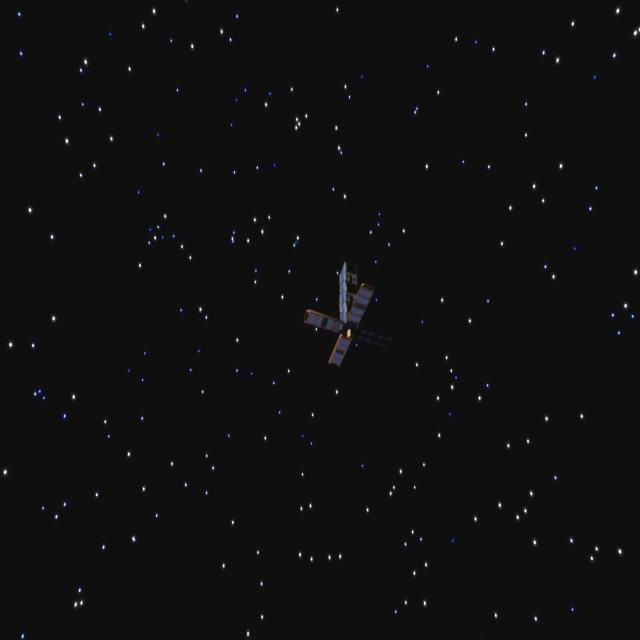satellite: (296, 257, 382, 367)
